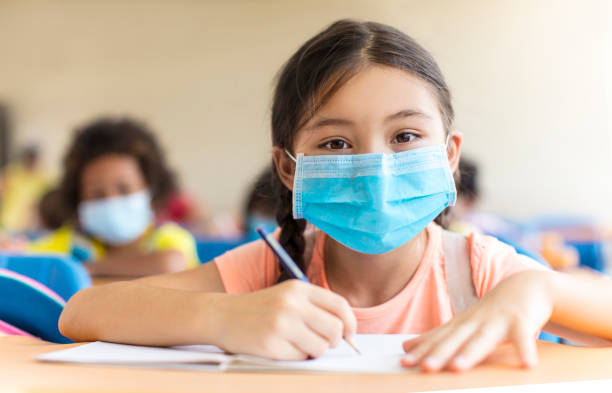with mask: (272, 36, 463, 252), (61, 143, 160, 247)
